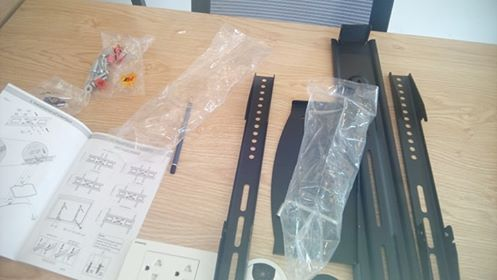plastic bag: (107, 24, 272, 173), (277, 76, 381, 280), (86, 30, 153, 94), (35, 74, 90, 111)
